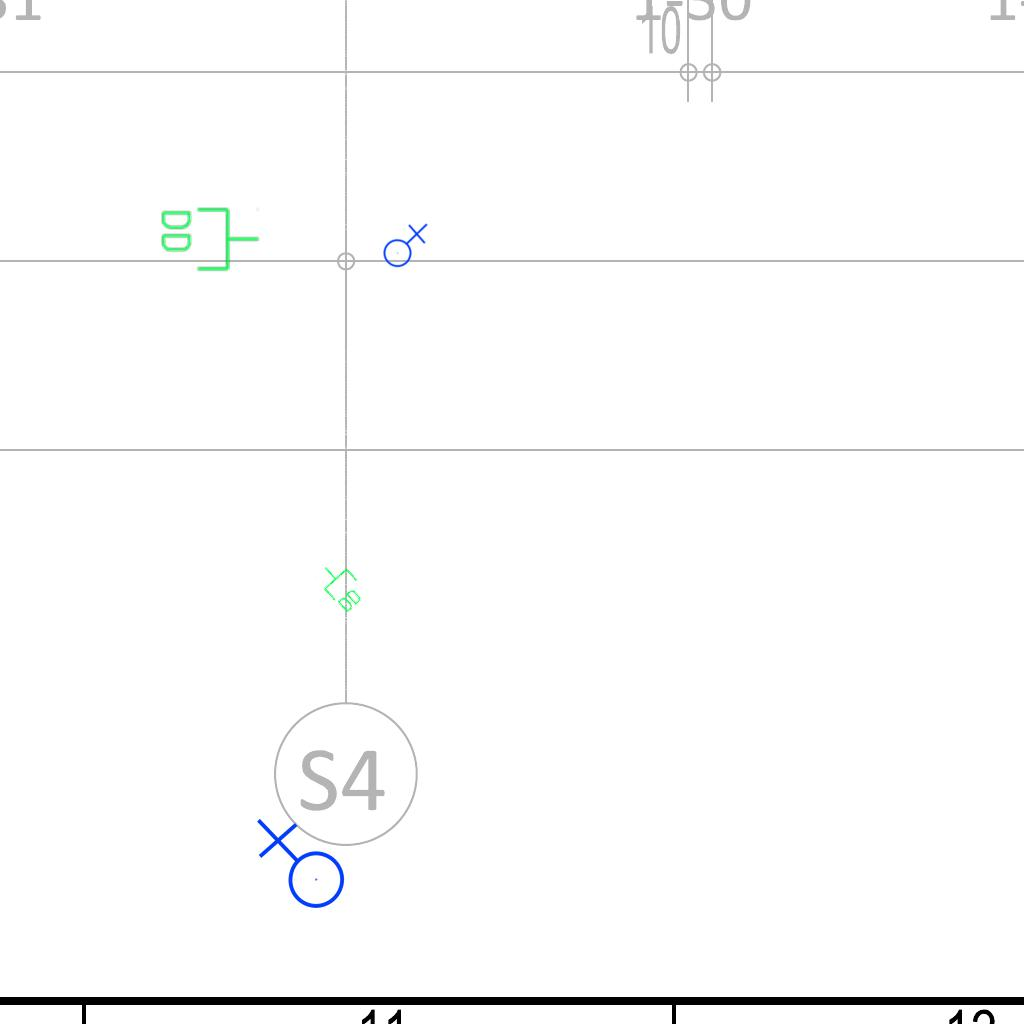Datenanschluss_zweifach: (158, 204, 261, 273), (311, 555, 372, 617)
Elektroanschluss_allgemein_230V_Geraeteanschlussdose_230V: (252, 818, 346, 917), (379, 221, 428, 268)
